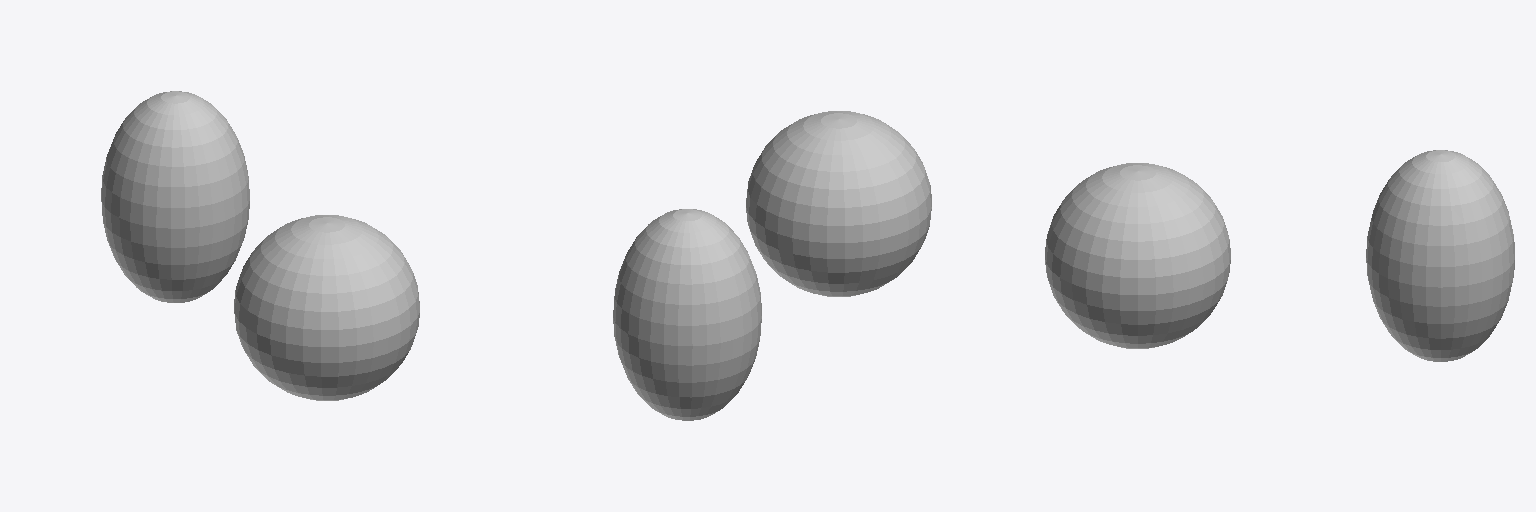
Rendered from Pukman.obj.
3 renders of one model, left to right at view 1: azimuth 30°, elevation 25°; view 2: azimuth 150°, elevation 25°; view 3: azimuth 270°, elevation 25°, orthographic.
Parts seen in each view (by area): view 1: Sphere, Sphere_Jump_Sphere.001; view 2: Sphere, Sphere_Jump_Sphere.001; view 3: Sphere, Sphere_Jump_Sphere.001.
Part boxes in pixels (x1,y1,x2,y2): Sphere: (234,215,419,400); Sphere_Jump_Sphere.001: (101,91,249,302); Sphere: (746,111,931,296); Sphere_Jump_Sphere.001: (613,209,761,420); Sphere: (1045,163,1230,348); Sphere_Jump_Sphere.001: (1366,150,1514,361).
Bounding box in the file's own units: 2 × 2.4 × 5.04.